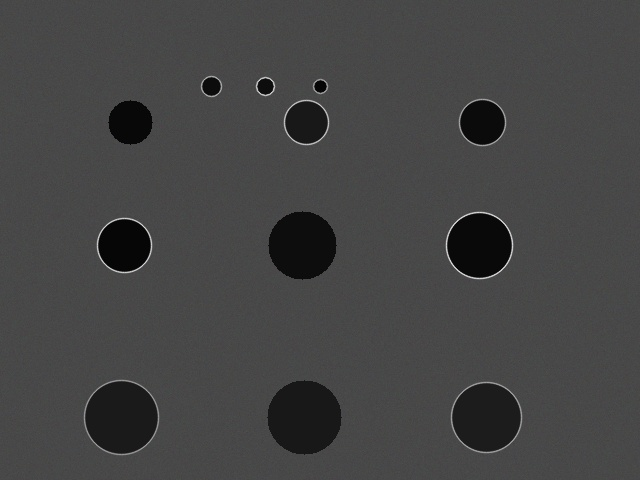hole: (84, 380, 158, 454), (267, 380, 341, 454), (451, 382, 521, 452), (268, 211, 336, 279), (446, 212, 512, 278), (97, 218, 151, 272), (459, 99, 505, 145), (108, 100, 152, 144), (284, 100, 328, 144), (201, 76, 221, 96), (256, 77, 274, 95), (313, 79, 327, 93)
